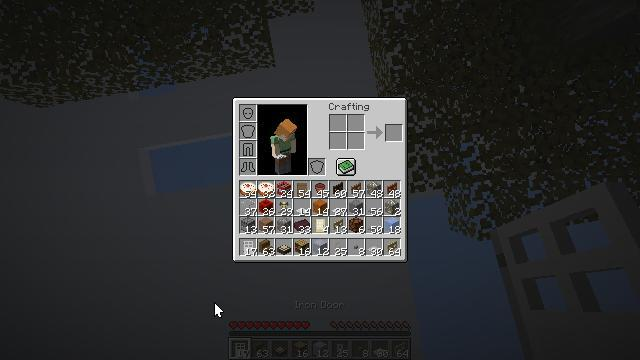cursor: (302, 214, 318, 224)
